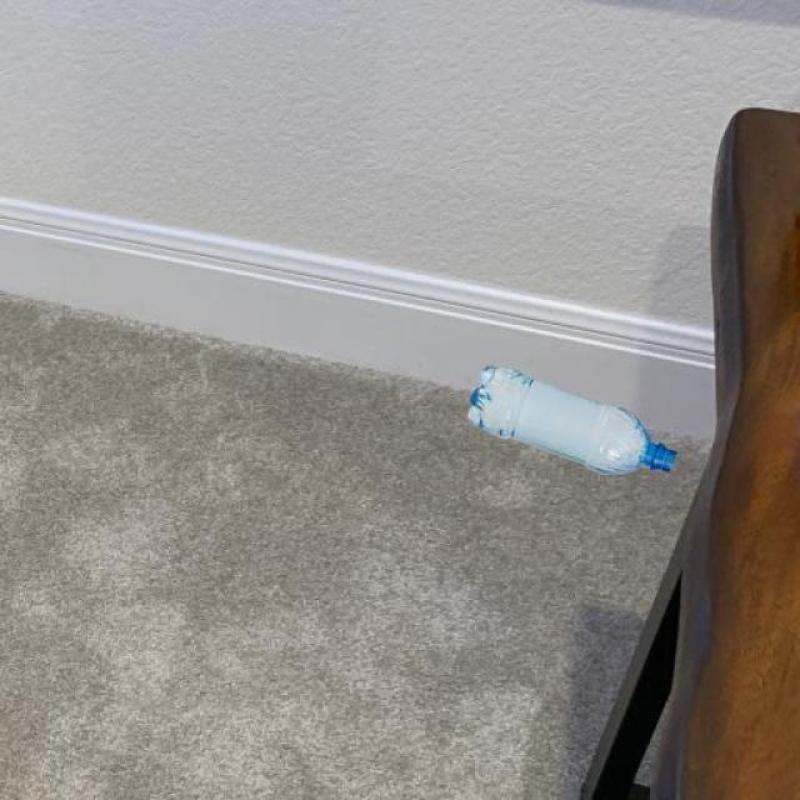botella: (471, 367, 681, 484)
